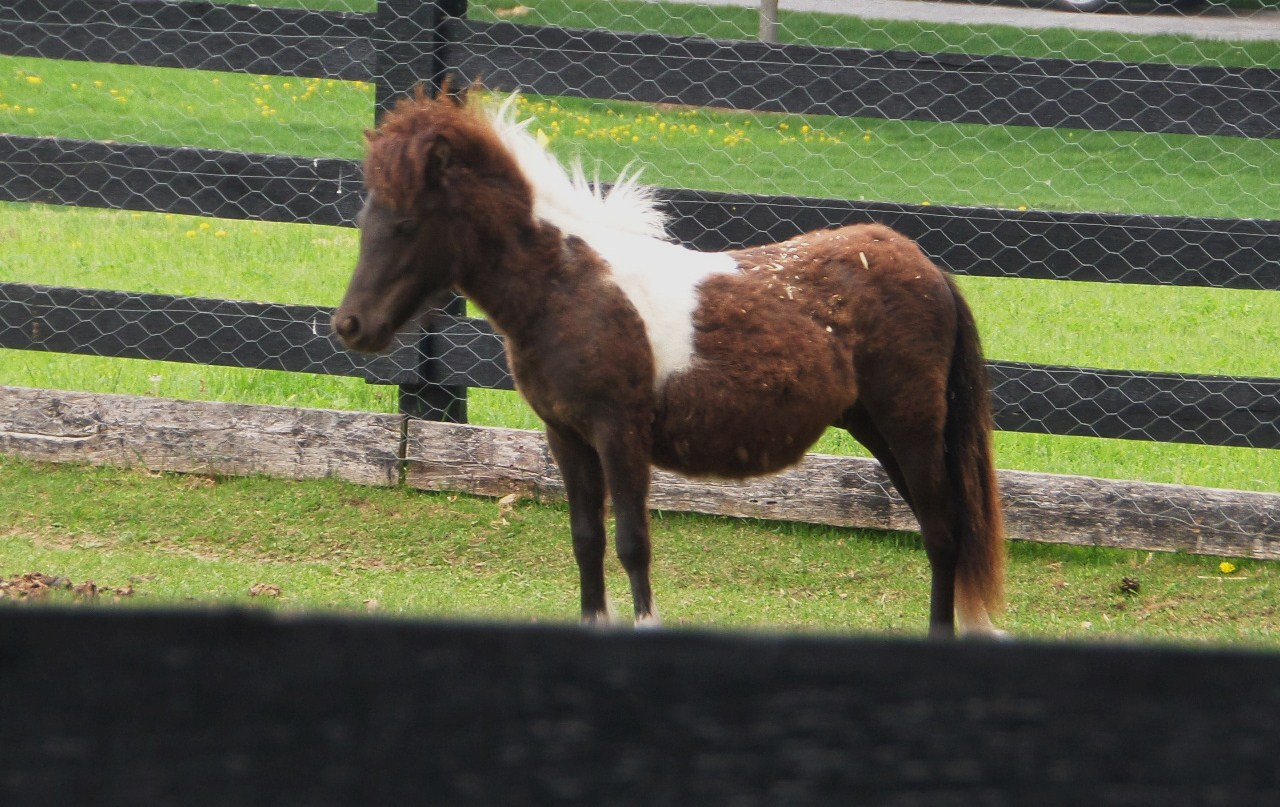horse: (331, 72, 1012, 636)
